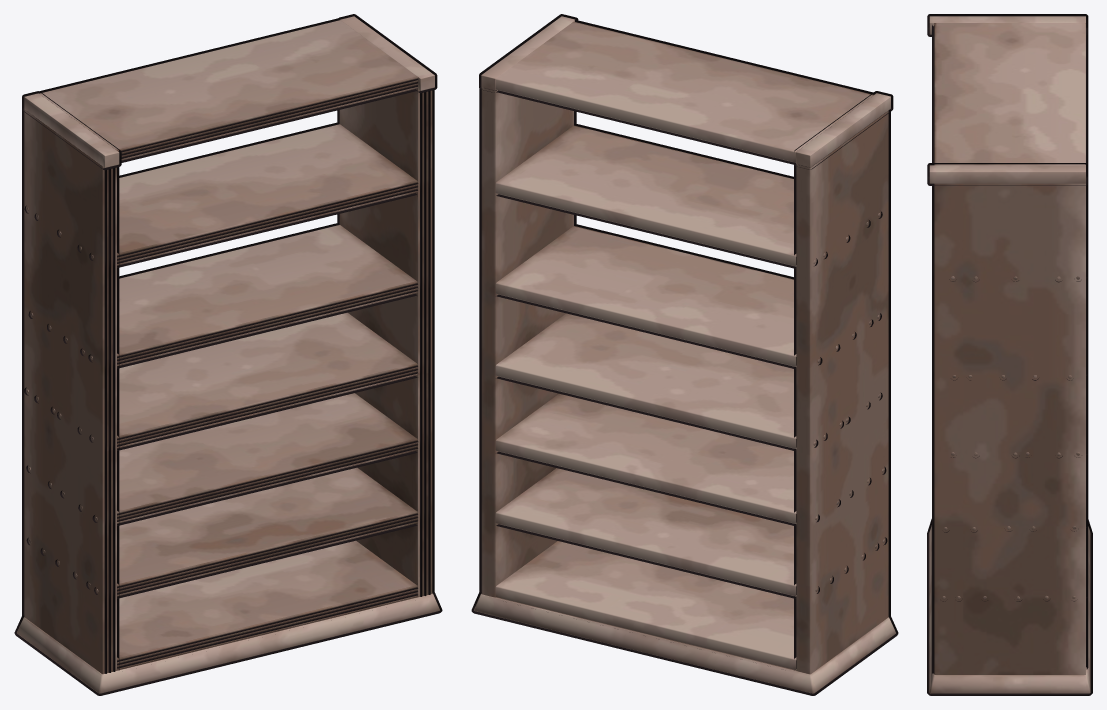
File: SM_Int_Bookshelf.fbx
3 renders of one model, left to right at view 1: azimuth 30°, elevation 25°; view 2: azimuth 150°, elevation 25°; view 3: azimuth 270°, elevation 25°, orthographic. The views are drawn at different scales.
Visible parts, largest first — view 1: SM_Int_Bookshelf; view 2: SM_Int_Bookshelf; view 3: SM_Int_Bookshelf.
Boxes of the visible parts, left/top/right/bottom form: SM_Int_Bookshelf: left=14, top=14, right=442, bottom=695; SM_Int_Bookshelf: left=471, top=14, right=898, bottom=695; SM_Int_Bookshelf: left=927, top=14, right=1092, bottom=695.
Size of what is drawn, in the model's own units: 1.35 by 2.02 by 0.5787.
